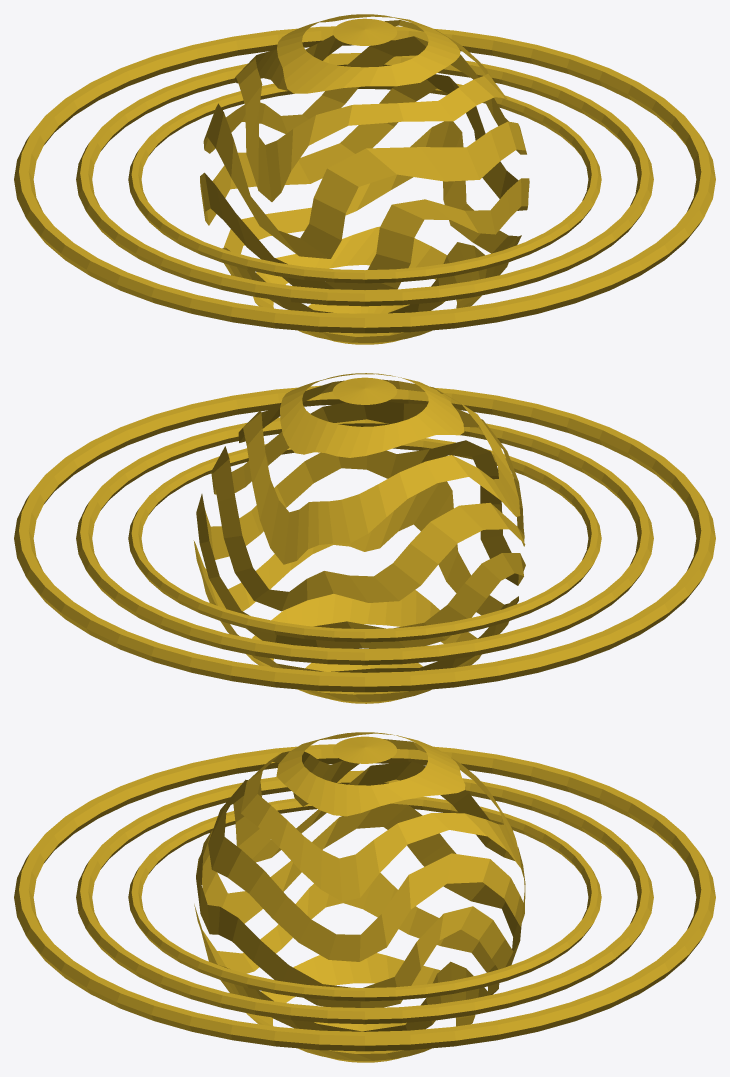
File: Abstract Sphere Yellow.fbx
3 views of the same model, one above another, from view 1: azimuth 30°, elevation 25°; view 2: azimuth 150°, elevation 25°; view 3: azimuth 270°, elevation 25° (orthographic).
Parts seen in each view (by area): view 1: Sphere.001, Torus.005, Torus.004, Torus.003; view 2: Sphere.001, Torus.005, Torus.004, Torus.003; view 3: Sphere.001, Torus.005, Torus.004, Torus.003.
Part boxes in pixels (x1,y1,x2,y2): Sphere.001: (200,14,529,344); Torus.005: (14,26,715,333); Torus.004: (76,53,653,306); Torus.003: (128,83,601,283); Sphere.001: (193,373,525,703); Torus.005: (14,385,715,692); Torus.004: (76,417,653,665); Torus.003: (128,438,601,642); Sphere.001: (194,732,525,1062); Torus.005: (14,744,715,1051); Torus.004: (76,770,653,1024); Torus.003: (128,797,601,1001).
Size of the model in its own units: 424 by 200 by 424.
